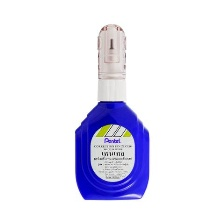correction_fluid: (71, 20, 151, 203)
